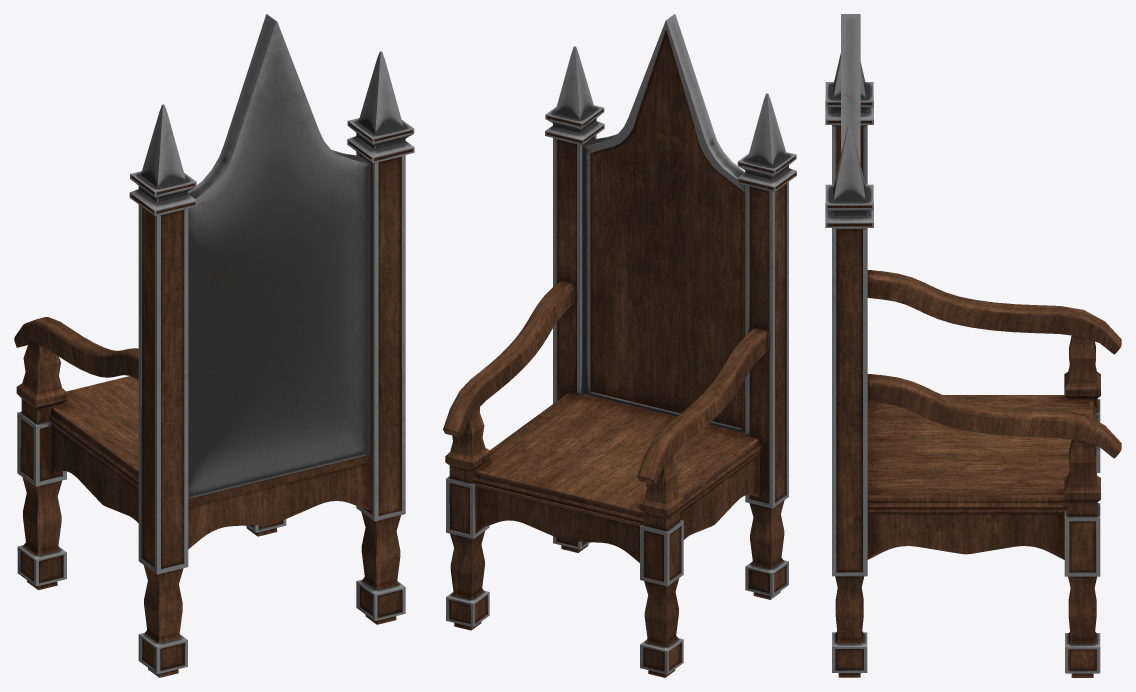
The picture shows the model from 3 angles, left to right: view 1: azimuth 30°, elevation 25°; view 2: azimuth 150°, elevation 25°; view 3: azimuth 270°, elevation 25°; orthographic projection. The views are drawn at different scales.
Parts seen in each view (by area): view 1: Chair; view 2: Chair; view 3: Chair.
Boxes of the visible parts, box(x1,y1,x2,y2) form: Chair: box(14, 14, 414, 677); Chair: box(443, 14, 796, 677); Chair: box(825, 14, 1121, 677).
Size of the model in its own units: 0.8681 by 2 by 0.8839.
1 material, 1 textured.
